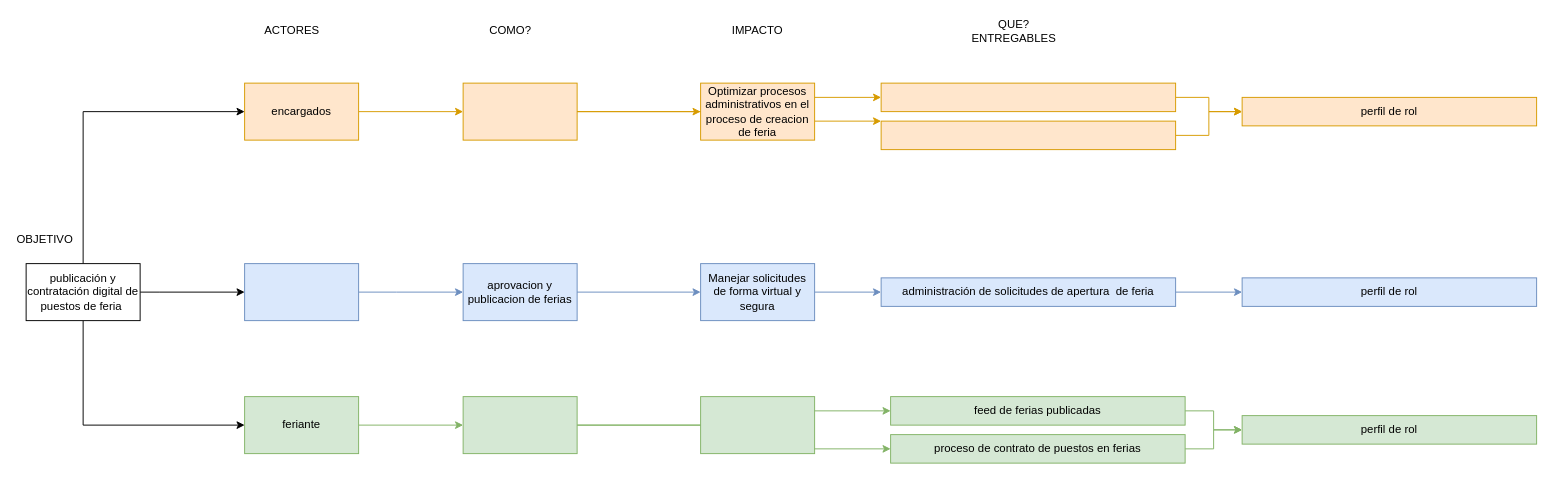
Some shapes in this 1553 by 480 pixel diagram are drawn without their labels. Each missing label, with the centre of its shape:
administrador municipal: the point at 301,292
apartado administrativo de la feria: the point at 1028,135
contratacion de puestos: the point at 519,425
Creación y administración de feria: the point at 519,111
Digitalizar y agilizar un proceso que anteriormente se llevaba a papel: the point at 757,425
Herramienta de planos de feria: the point at 1028,97
